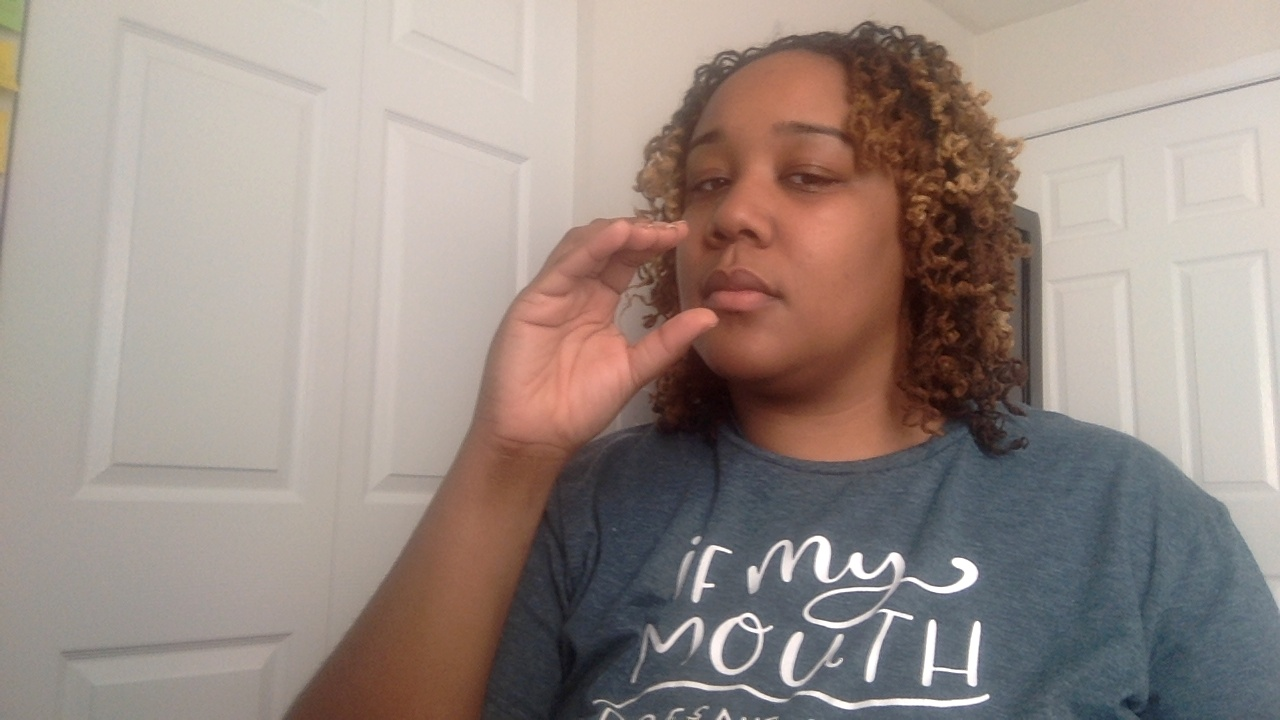drink: (472, 213, 883, 456)
